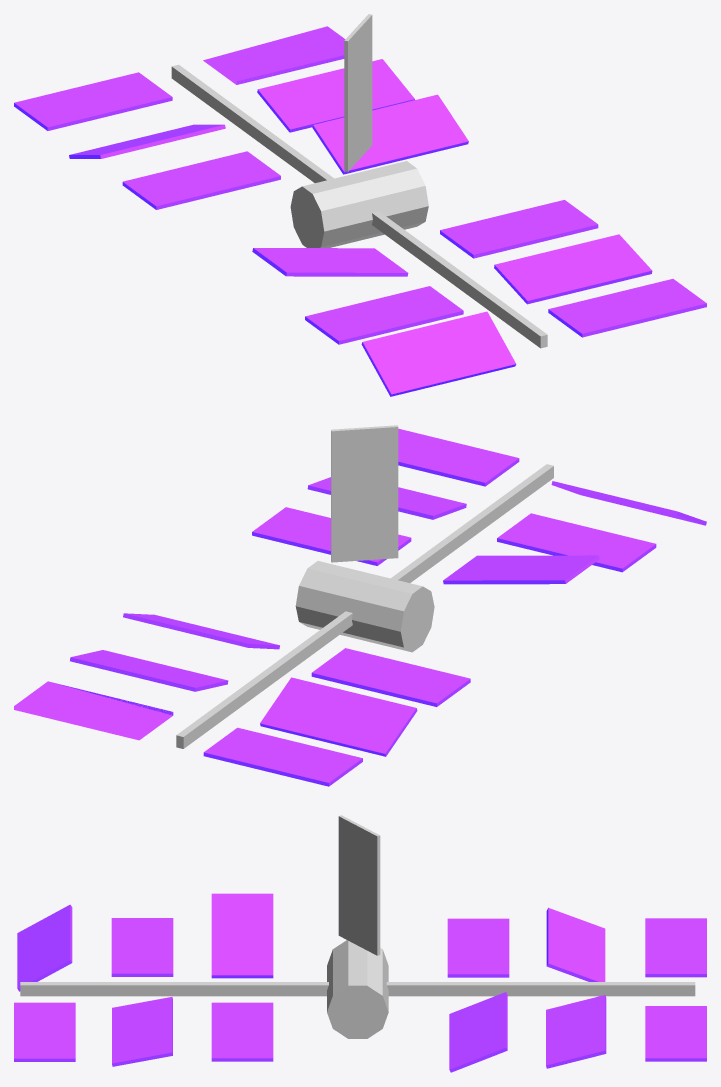
File: satelite2.glb
3 renders of one model, top to bottom at view 1: azimuth 30°, elevation 25°; view 2: azimuth 150°, elevation 25°; view 3: azimuth 270°, elevation 25°, orthographic. The views are drawn at different scales.
Parts seen in each view (by area): view 1: toppannel; view 2: toppannel; view 3: toppannel.
Part boxes in pixels (box(x1,y1,x2,y2)): toppannel: box(14, 14, 706, 396); toppannel: box(14, 425, 706, 786); toppannel: box(14, 815, 706, 1072).
Bounding box in the file's own units: 2.62 × 1.65 × 5.47.
